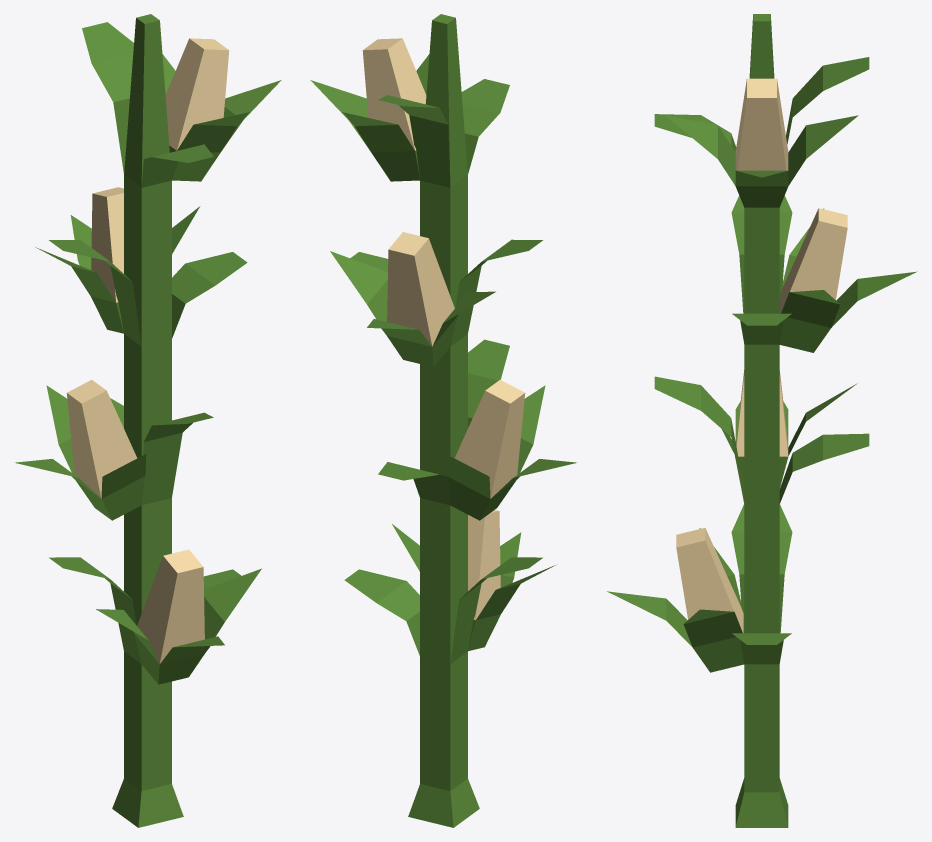
Rendered from proto_corn.glb.
3 renders of one model, left to right at view 1: azimuth 30°, elevation 25°; view 2: azimuth 150°, elevation 25°; view 3: azimuth 270°, elevation 25°, orthographic.
Visible parts, largest first — view 1: crops_cornStageD, corn (×4); view 2: crops_cornStageD, corn (×4); view 3: crops_cornStageD, corn (×4).
Part boxes in pixels (<box>): crops_cornStageD: <box>49,14,247,827</box>; corn (×4): <box>15,38,281,684</box>; crops_cornStageD: <box>344,14,542,827</box>; corn (×4): <box>310,38,576,651</box>; crops_cornStageD: <box>654,14,869,827</box>; corn (×4): <box>607,78,916,672</box>.
Bounding box in the file's own units: 0.7065 × 2 × 0.7065.
